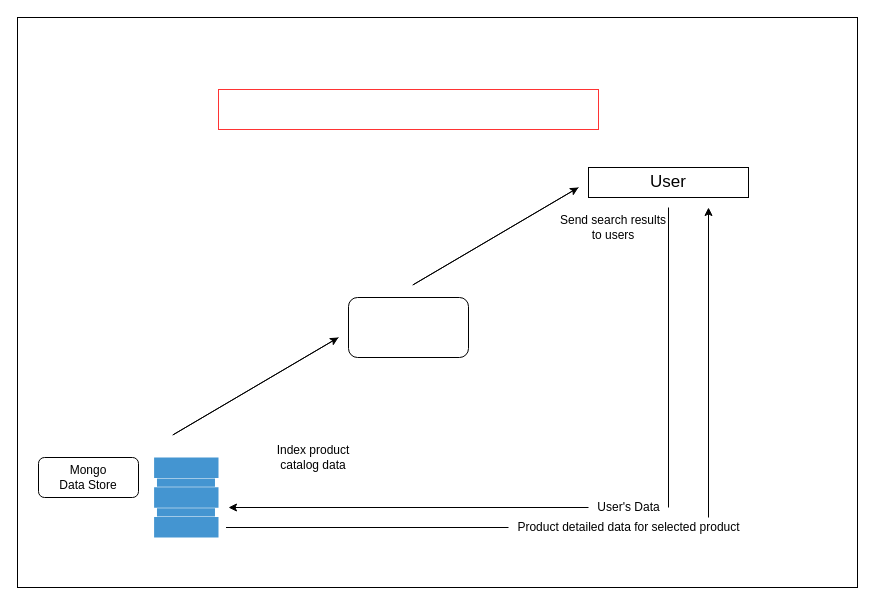
Image size: 875x605. Some labels were removed from this diagram. The centre of each missing label's shape, as x and y in pixels:
DATA FLOW DIAGRAM: the point at 408,109
Display Product Catalog: the point at 408,327
